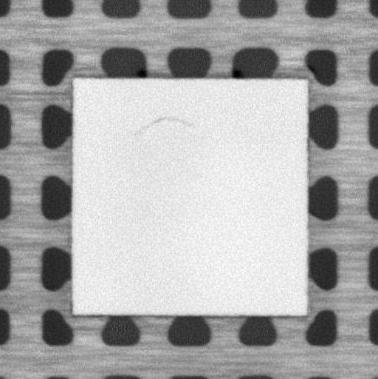DIE_CRACK: (136, 115, 194, 133)
